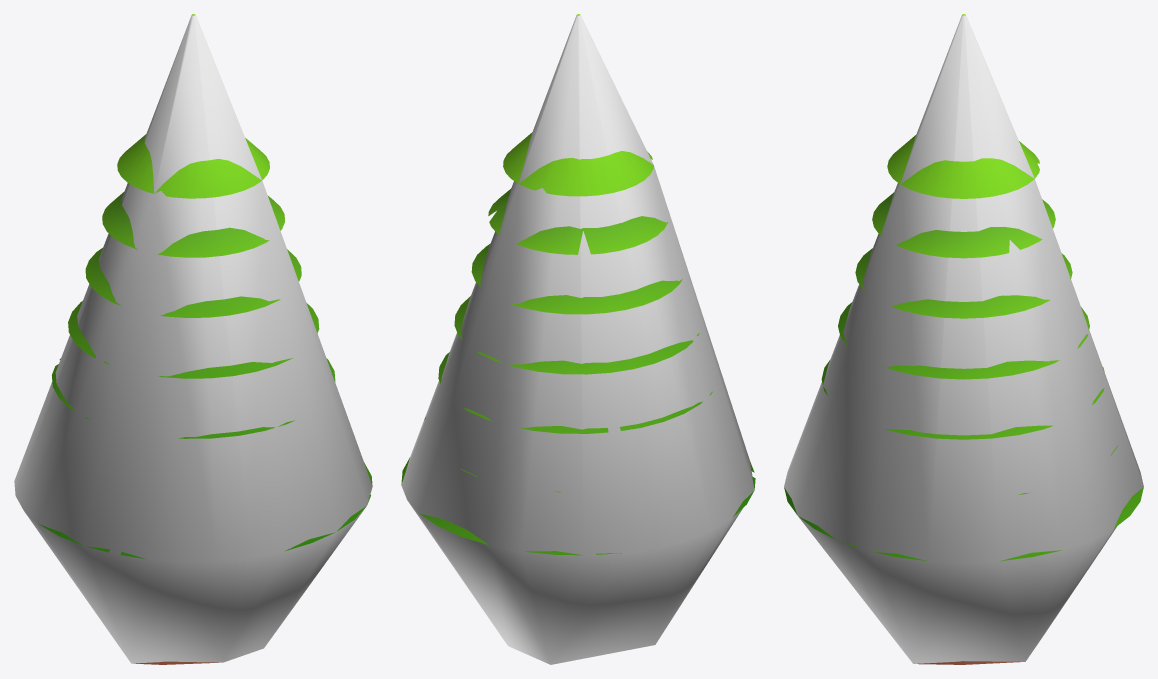
3 renders of one model, left to right at view 1: azimuth 30°, elevation 25°; view 2: azimuth 150°, elevation 25°; view 3: azimuth 270°, elevation 25°, orthographic.
Parts seen in each view (by area): view 1: struct_street_tree_base_01_col, struct_street_tree_base_01; view 2: struct_street_tree_base_01_col, struct_street_tree_base_01; view 3: struct_street_tree_base_01_col, struct_street_tree_base_01.
Boxes of the visible parts, bbox=[...] form: struct_street_tree_base_01_col: bbox=[14, 14, 372, 663]; struct_street_tree_base_01: bbox=[39, 14, 372, 664]; struct_street_tree_base_01_col: bbox=[401, 15, 754, 664]; struct_street_tree_base_01: bbox=[401, 14, 755, 555]; struct_street_tree_base_01_col: bbox=[784, 15, 1143, 663]; struct_street_tree_base_01: bbox=[784, 14, 1143, 664].
Size of the model in its own units: 1.07 by 2.05 by 1.07.
